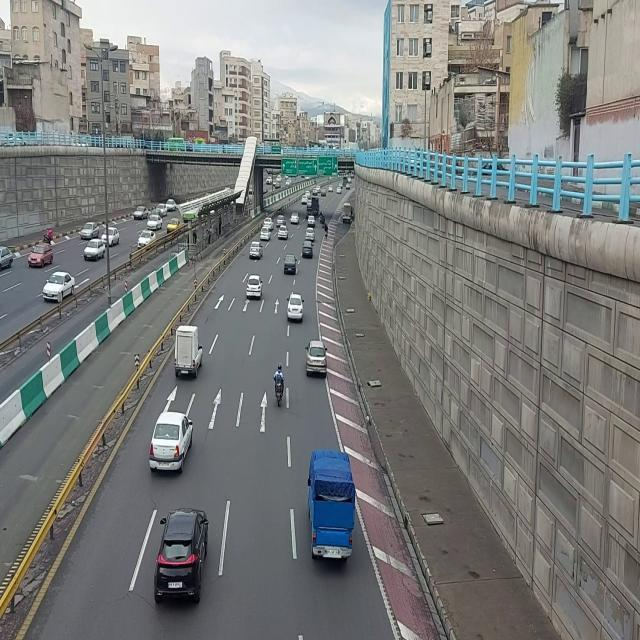Car: (154, 504, 208, 608), (149, 410, 194, 475), (42, 270, 76, 302), (305, 340, 328, 379), (28, 242, 54, 269), (287, 293, 305, 323), (83, 239, 106, 261), (246, 275, 264, 300), (137, 229, 157, 249), (100, 227, 120, 247), (0, 246, 14, 273), (80, 221, 100, 239), (249, 240, 263, 260), (283, 253, 297, 273), (166, 217, 182, 233), (146, 214, 162, 230), (342, 201, 352, 225), (133, 206, 149, 221), (302, 240, 315, 258), (278, 224, 289, 240), (260, 226, 272, 240), (263, 217, 275, 231), (156, 203, 168, 216), (166, 198, 177, 212), (290, 211, 300, 226), (277, 214, 287, 228), (305, 228, 315, 240), (307, 215, 316, 227), (302, 195, 309, 205), (306, 199, 312, 209), (321, 189, 327, 197), (312, 187, 318, 195), (328, 185, 334, 193), (336, 187, 342, 195)
Motorcycle: (274, 362, 285, 408), (42, 227, 54, 247), (324, 223, 328, 239), (322, 215, 326, 229), (320, 211, 323, 225)
Pickup: (307, 447, 357, 563), (174, 324, 204, 379)
